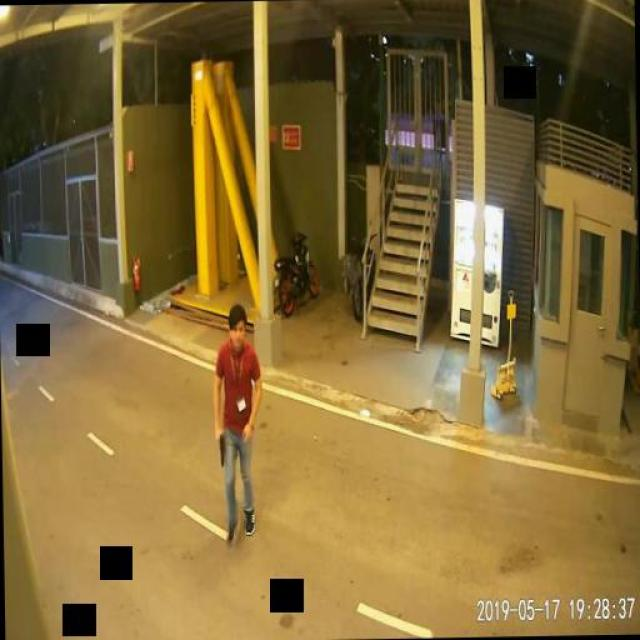gun: (212, 429, 222, 465)
